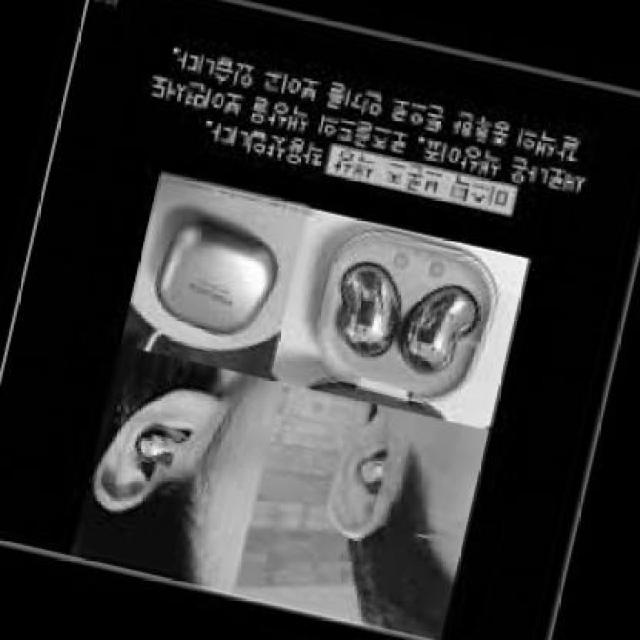earphone: (407, 262, 485, 376), (332, 253, 399, 361), (127, 415, 194, 471), (353, 448, 400, 500)
